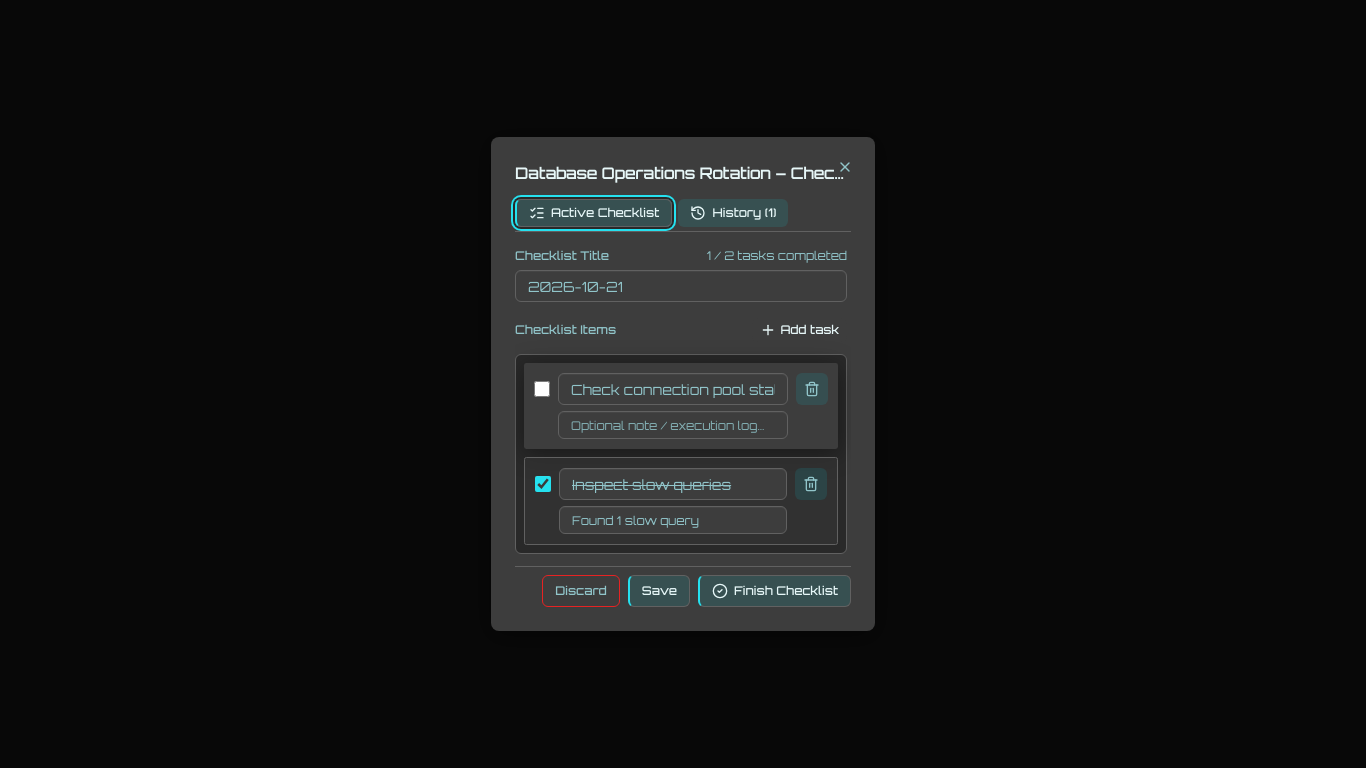
Test case: GreenkeepingTasklistDialog › finishes active checklist with confirmation and transitions to history
Click the button "Finish Checklist". click: (775, 591)
box: 698,575 -> 851,607
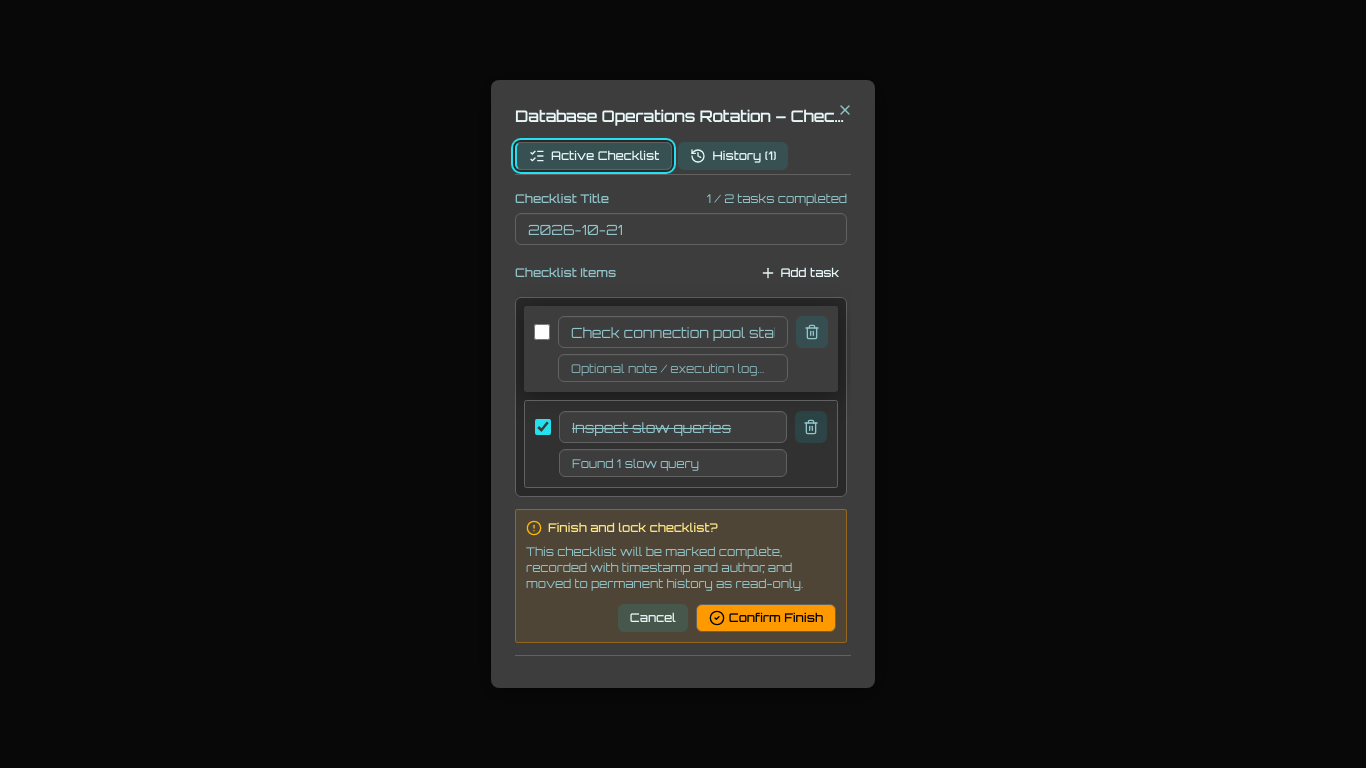
Check: the text "Finish and lock checklist?" is shown, box 526,520 -> 718,536
Click the button "Confirm Finish". click: (766, 618)
box: 696,604 -> 836,632
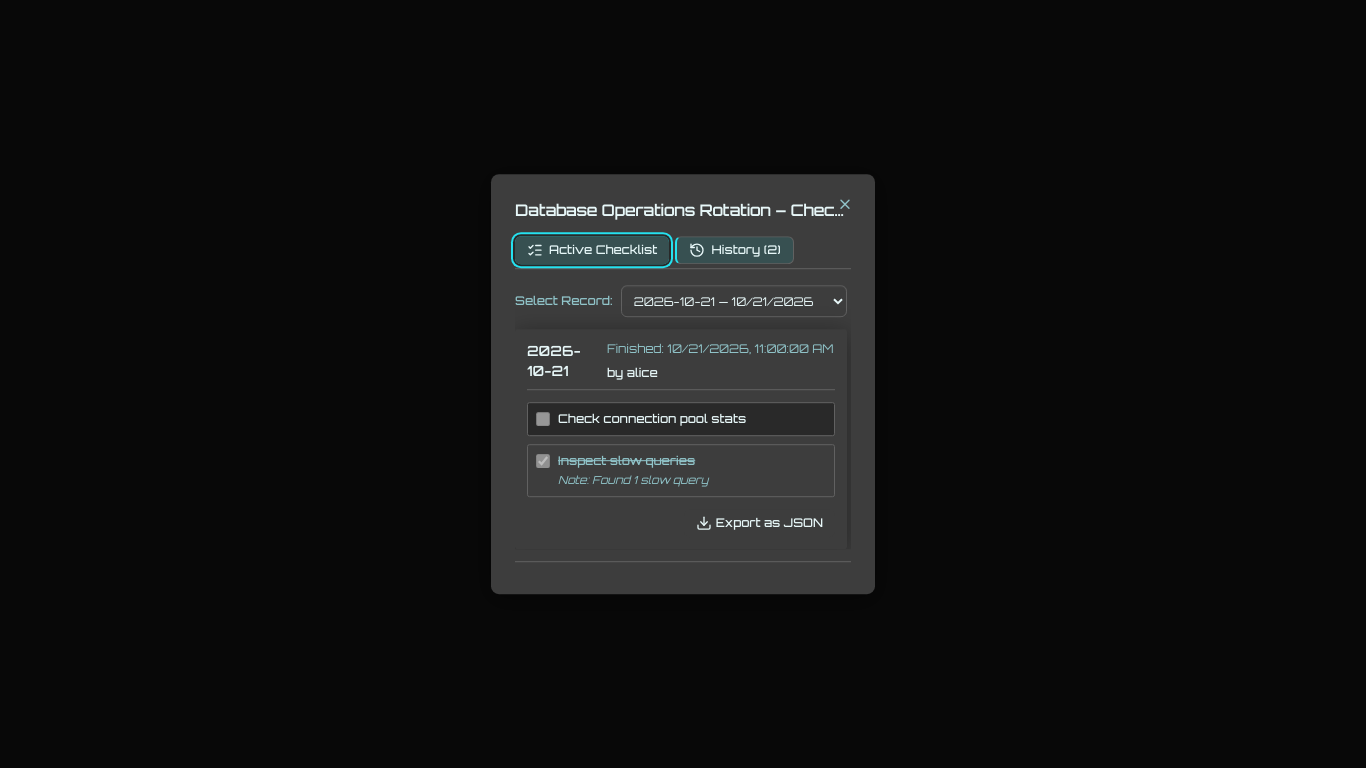
Check: the button "History (2)" is shown, box 676,236 -> 794,264
